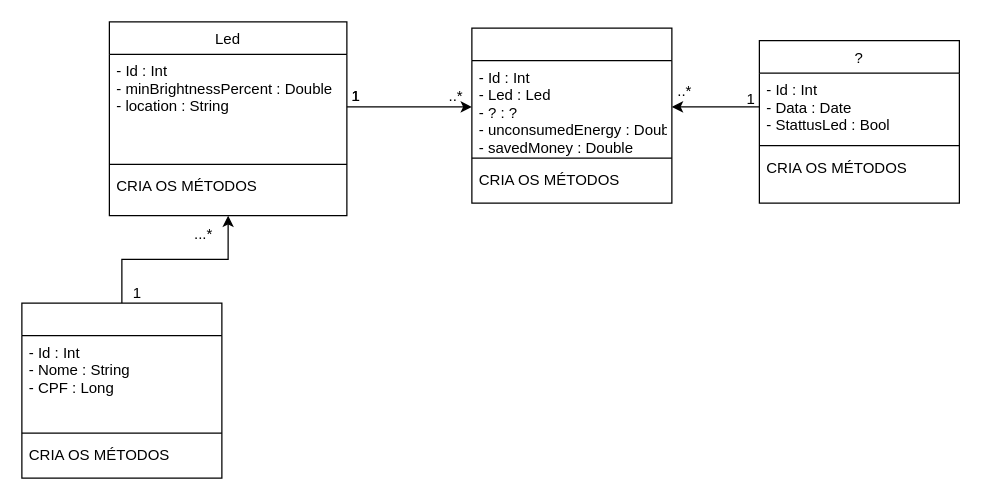
This 981x500 diagram has some shape labels left out. Here are the shapes that lost their labels. From the top down, the box of each, then its label:
(471, 27, 672, 203): Relação
(21, 302, 222, 478): Client
